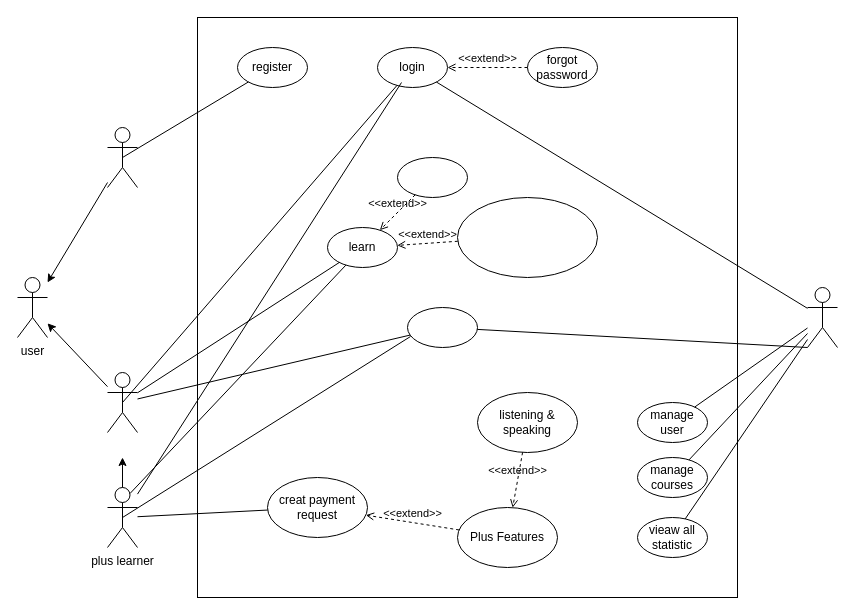
This 856x615 diagram has some shape labels left out. Here are the shapes that lost their labels. From the top down, the centre of each, then its label:
At point (122, 157): "unregistered user".
At point (432, 177): "reading & wrting".
At point (527, 237): "dictionary, minigames,vocabulary,...".
At point (442, 327): "log out".
At point (822, 317): "admin".
At point (122, 402): "learner".
